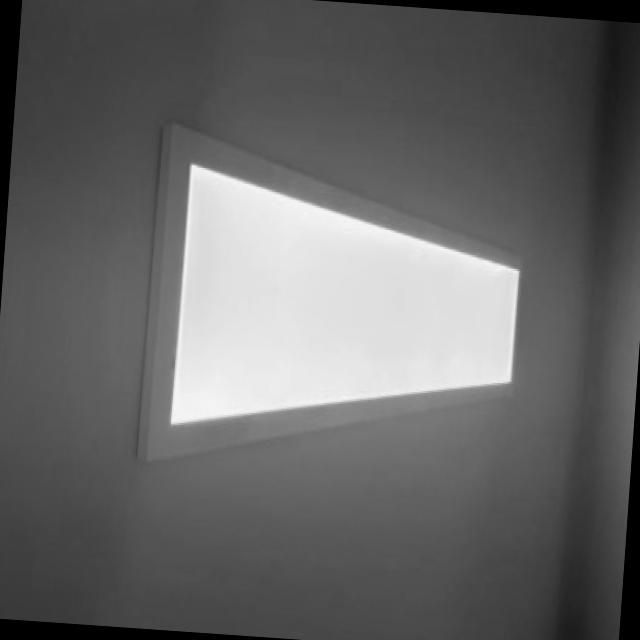light: (135, 120, 522, 462)
